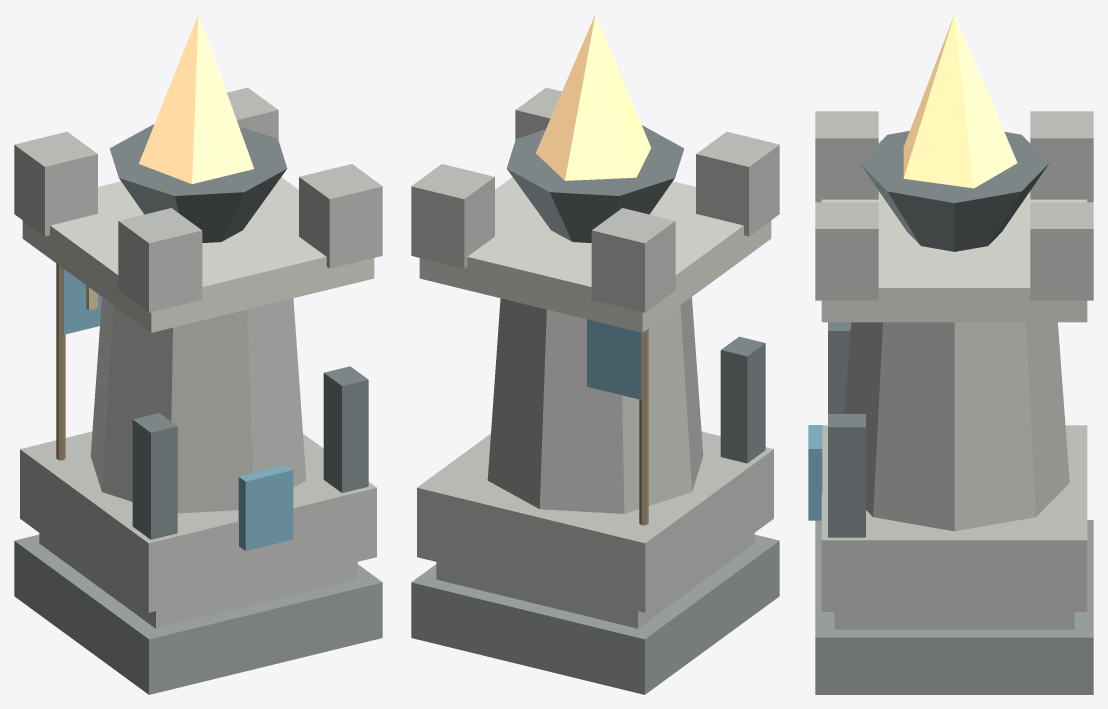
Rendered from human_fire_t4.glb.
3 renders of one model, left to right at view 1: azimuth 30°, elevation 25°; view 2: azimuth 150°, elevation 25°; view 3: azimuth 270°, elevation 25°, orthographic. The views are drawn at different scales.
Parts seen in each view (by area): view 1: human_fire_t4_MAT_stone, human_fire_t4_MAT_dark, human_fire_t4_MAT_iron, human_fire_t4_MAT_light, human_fire_t4_MAT_fire, human_fire_t4_MAT_blue, human_fire_t4_MAT_wood; view 2: human_fire_t4_MAT_stone, human_fire_t4_MAT_dark, human_fire_t4_MAT_light, human_fire_t4_MAT_iron, human_fire_t4_MAT_fire, human_fire_t4_MAT_blue, human_fire_t4_MAT_wood; view 3: human_fire_t4_MAT_stone, human_fire_t4_MAT_dark, human_fire_t4_MAT_iron, human_fire_t4_MAT_light, human_fire_t4_MAT_fire, human_fire_t4_MAT_blue.
Part boxes in pixels (<box>): human_fire_t4_MAT_stone: <box>14,87,382,628</box>; human_fire_t4_MAT_dark: <box>14,534,382,694</box>; human_fire_t4_MAT_iron: <box>109,124,368,539</box>; human_fire_t4_MAT_light: <box>22,177,374,332</box>; human_fire_t4_MAT_fire: <box>139,14,253,183</box>; human_fire_t4_MAT_blue: <box>63,269,293,550</box>; human_fire_t4_MAT_wood: <box>56,263,65,460</box>; human_fire_t4_MAT_stone: <box>411,87,779,628</box>; human_fire_t4_MAT_dark: <box>411,534,779,694</box>; human_fire_t4_MAT_light: <box>419,177,771,332</box>; human_fire_t4_MAT_iron: <box>506,125,765,463</box>; human_fire_t4_MAT_fire: <box>536,14,650,180</box>; human_fire_t4_MAT_blue: <box>587,319,641,399</box>; human_fire_t4_MAT_wood: <box>639,329,648,525</box>; human_fire_t4_MAT_stone: <box>815,111,1093,629</box>; human_fire_t4_MAT_dark: <box>815,520,1093,694</box>; human_fire_t4_MAT_iron: <box>828,131,1049,537</box>; human_fire_t4_MAT_light: <box>821,191,1087,322</box>; human_fire_t4_MAT_fire: <box>903,14,1017,188</box>; human_fire_t4_MAT_blue: <box>808,425,822,520</box>.
Bounding box in the file's own units: 0.88 × 2.17 × 0.9025.
